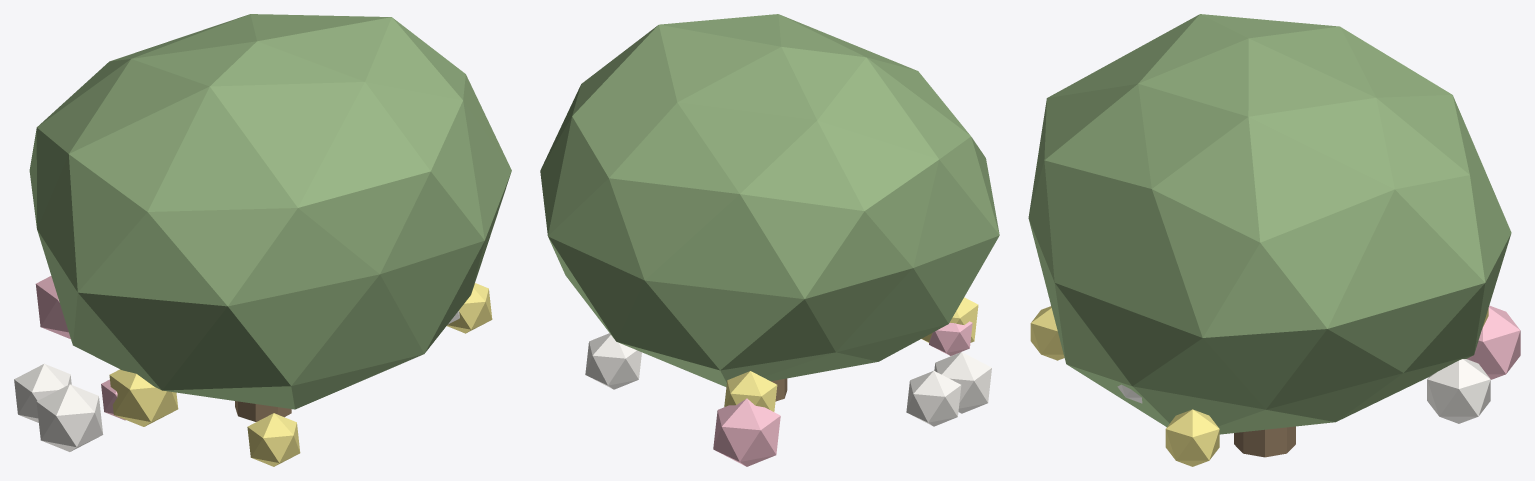
Rendered from 50-Vegetacion_arbusto_floral.glb.
3 views of the same model, side by side, from view 1: azimuth 30°, elevation 25°; view 2: azimuth 150°, elevation 25°; view 3: azimuth 270°, elevation 25° (orthographic). The views are drawn at different scales.
Parts seen in each view (by area): view 1: SM_ArbustoFloral_M_ArbustoFloral_Hojas, SM_ArbustoFloral_M_Flor_Amarillo, SM_ArbustoFloral_M_Flor_Blanco, SM_ArbustoFloral_M_Flor_Rosa, SM_ArbustoFloral_M_ArbustoFloral_Tallo; view 2: SM_ArbustoFloral_M_ArbustoFloral_Hojas, SM_ArbustoFloral_M_Flor_Blanco, SM_ArbustoFloral_M_Flor_Rosa, SM_ArbustoFloral_M_Flor_Amarillo; view 3: SM_ArbustoFloral_M_ArbustoFloral_Hojas, SM_ArbustoFloral_M_Flor_Amarillo, SM_ArbustoFloral_M_Flor_Blanco, SM_ArbustoFloral_M_Flor_Rosa, SM_ArbustoFloral_M_ArbustoFloral_Tallo.
Boxes of the visible parts, <box> form: SM_ArbustoFloral_M_ArbustoFloral_Hojas: <box>29,14,511,409</box>; SM_ArbustoFloral_M_Flor_Amarillo: <box>109,283,492,466</box>; SM_ArbustoFloral_M_Flor_Blanco: <box>14,310,459,451</box>; SM_ArbustoFloral_M_Flor_Rosa: <box>35,276,125,420</box>; SM_ArbustoFloral_M_ArbustoFloral_Tallo: <box>235,401,291,421</box>; SM_ArbustoFloral_M_ArbustoFloral_Hojas: <box>540,14,999,386</box>; SM_ArbustoFloral_M_Flor_Blanco: <box>585,333,991,426</box>; SM_ArbustoFloral_M_Flor_Rosa: <box>713,321,972,466</box>; SM_ArbustoFloral_M_Flor_Amarillo: <box>724,297,978,411</box>; SM_ArbustoFloral_M_ArbustoFloral_Hojas: <box>1028,14,1511,434</box>; SM_ArbustoFloral_M_Flor_Amarillo: <box>1030,306,1488,466</box>; SM_ArbustoFloral_M_Flor_Blanco: <box>1117,359,1490,423</box>; SM_ArbustoFloral_M_Flor_Rosa: <box>1467,305,1520,379</box>; SM_ArbustoFloral_M_ArbustoFloral_Tallo: <box>1234,426,1295,457</box>.
Size of the model in its own units: 1.26 by 1 by 1.12.
